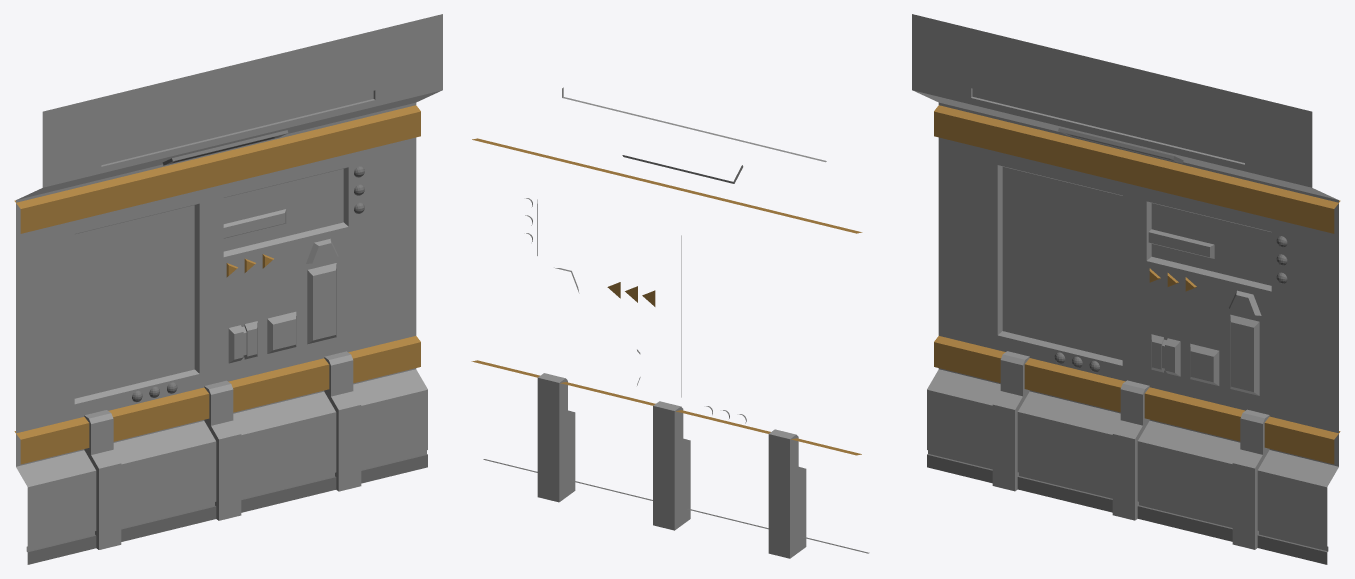
File: Wall_1.glb
3 views of the same model, side by side, from view 1: azimuth 30°, elevation 25°; view 2: azimuth 150°, elevation 25°; view 3: azimuth 330°, elevation 25° (orthographic). The views are drawn at different scales.
Visible parts, largest first — view 1: Main, Accent, DarkGrey; view 2: Main, Accent, DarkGrey; view 3: Main, Accent, DarkGrey.
Boxes of the visible parts, bbox=[...] form: Main: bbox=[16, 14, 442, 551]; Accent: bbox=[14, 105, 420, 464]; DarkGrey: bbox=[27, 130, 427, 564]; Main: bbox=[537, 87, 826, 558]; Accent: bbox=[471, 138, 862, 455]; DarkGrey: bbox=[483, 155, 869, 553]; Main: bbox=[912, 14, 1338, 551]; Accent: bbox=[934, 105, 1340, 464]; DarkGrey: bbox=[927, 128, 1327, 564].
Bounding box in the file's own units: 4 × 4.43 × 0.5447.
